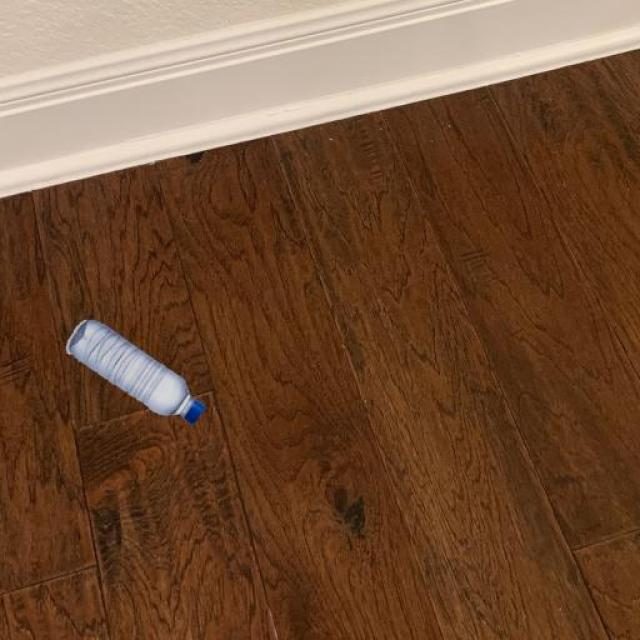plasticbottlecap: (167, 384, 223, 434)
